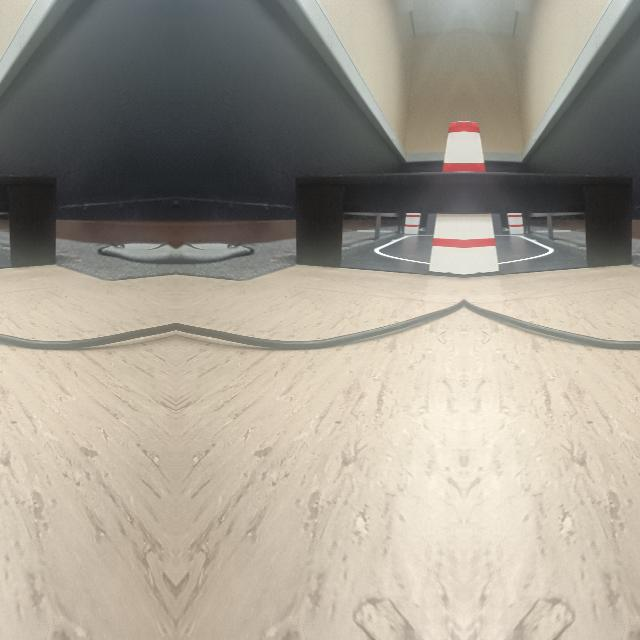obstacle: (296, 172, 464, 266), (464, 172, 632, 266), (174, 305, 463, 353), (463, 305, 640, 353), (0, 305, 175, 353), (0, 172, 54, 265)
